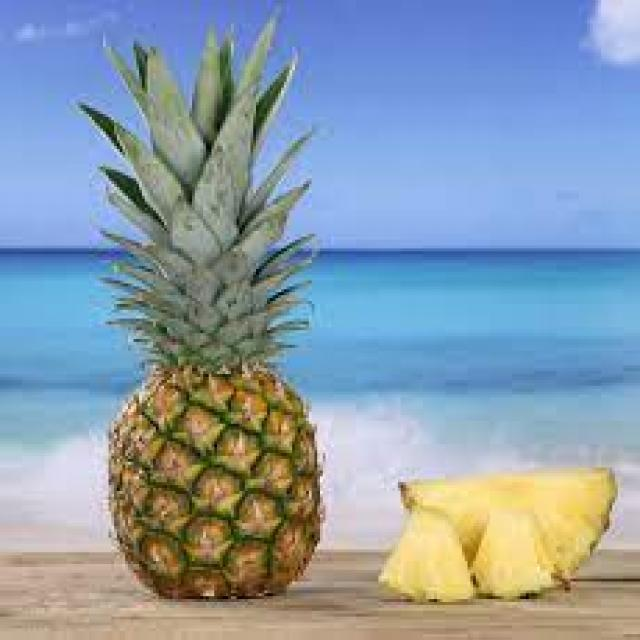pineapple: (103, 53, 323, 605)
